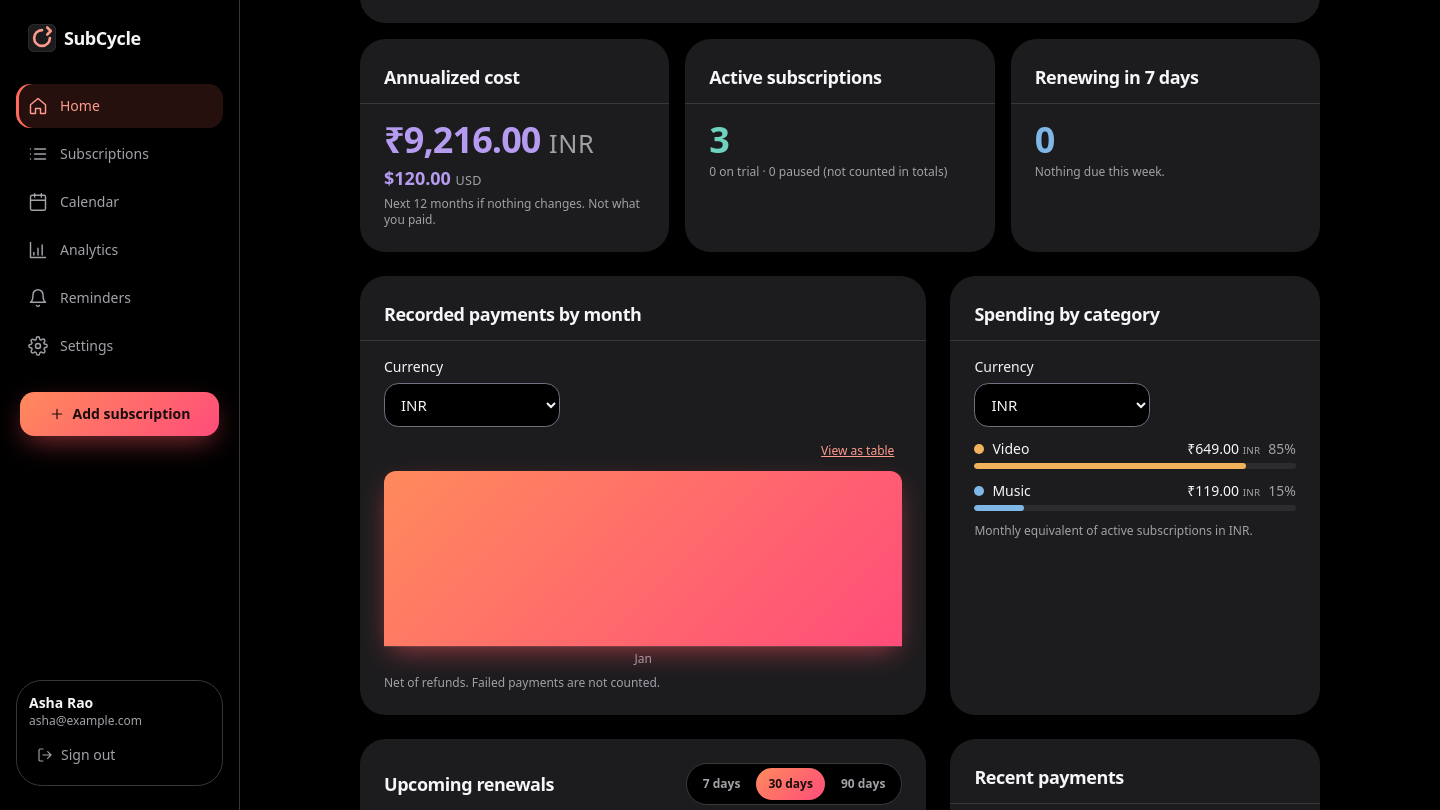
Test: multiple currencies are never combined › category and recorded charts offer a currency switch instead of mixing
The image size is (1440, 810).
(page scrolled)
expect the picture named "649.00" is shown: met, box [384,471,902,667]
Select "USD" in the dropdown labelled "Currency" below "Recorded payments by month": {"x": 472, "y": 405} [384,383,560,427]
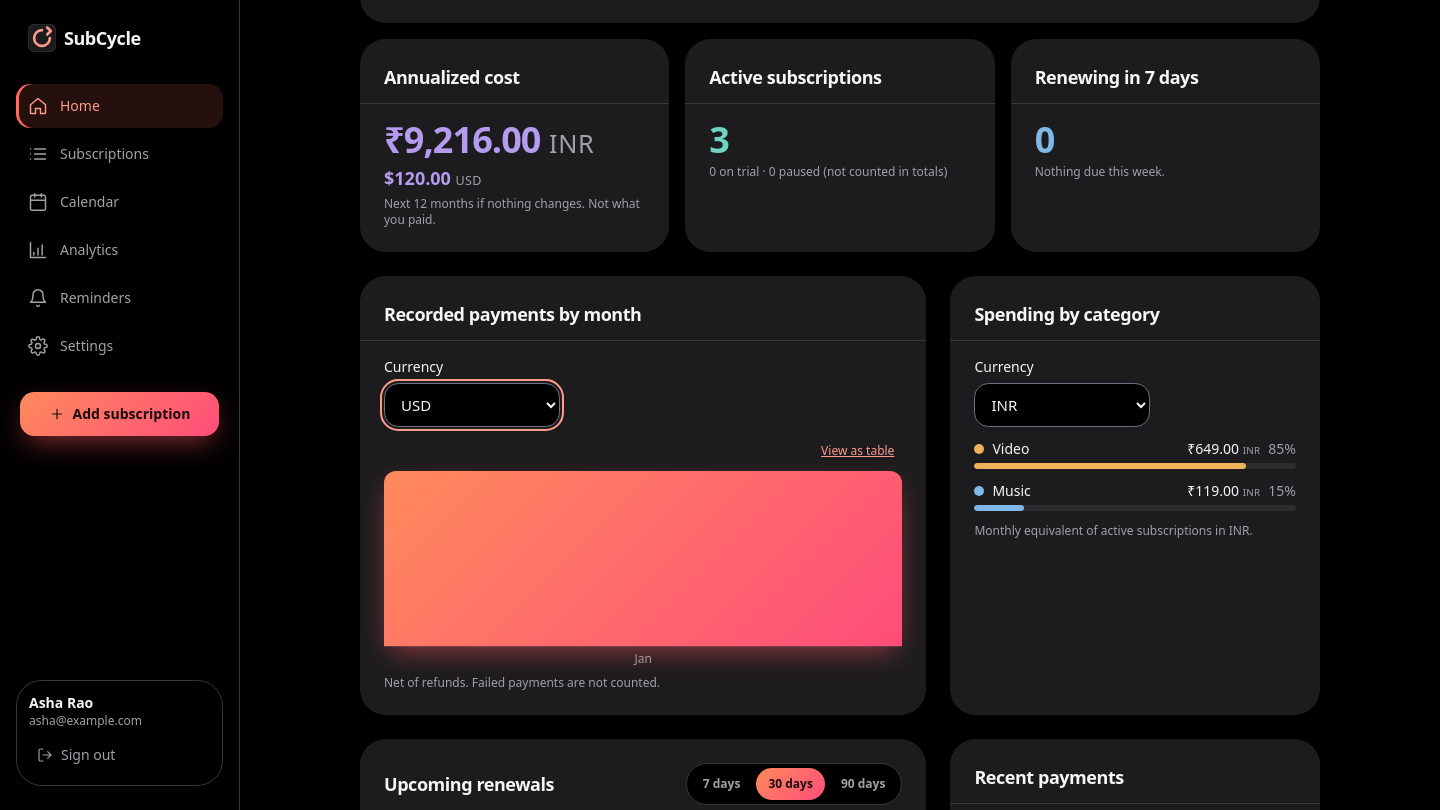
expect the picture "Jan" is shown: met, box [384,471,902,667]
expect the text "Video" is shown: met, box [974,439,1029,459]
Select "USD" in the dropdown labelled "Currency" below "Spending by category": {"x": 1062, "y": 405} [974,383,1150,427]
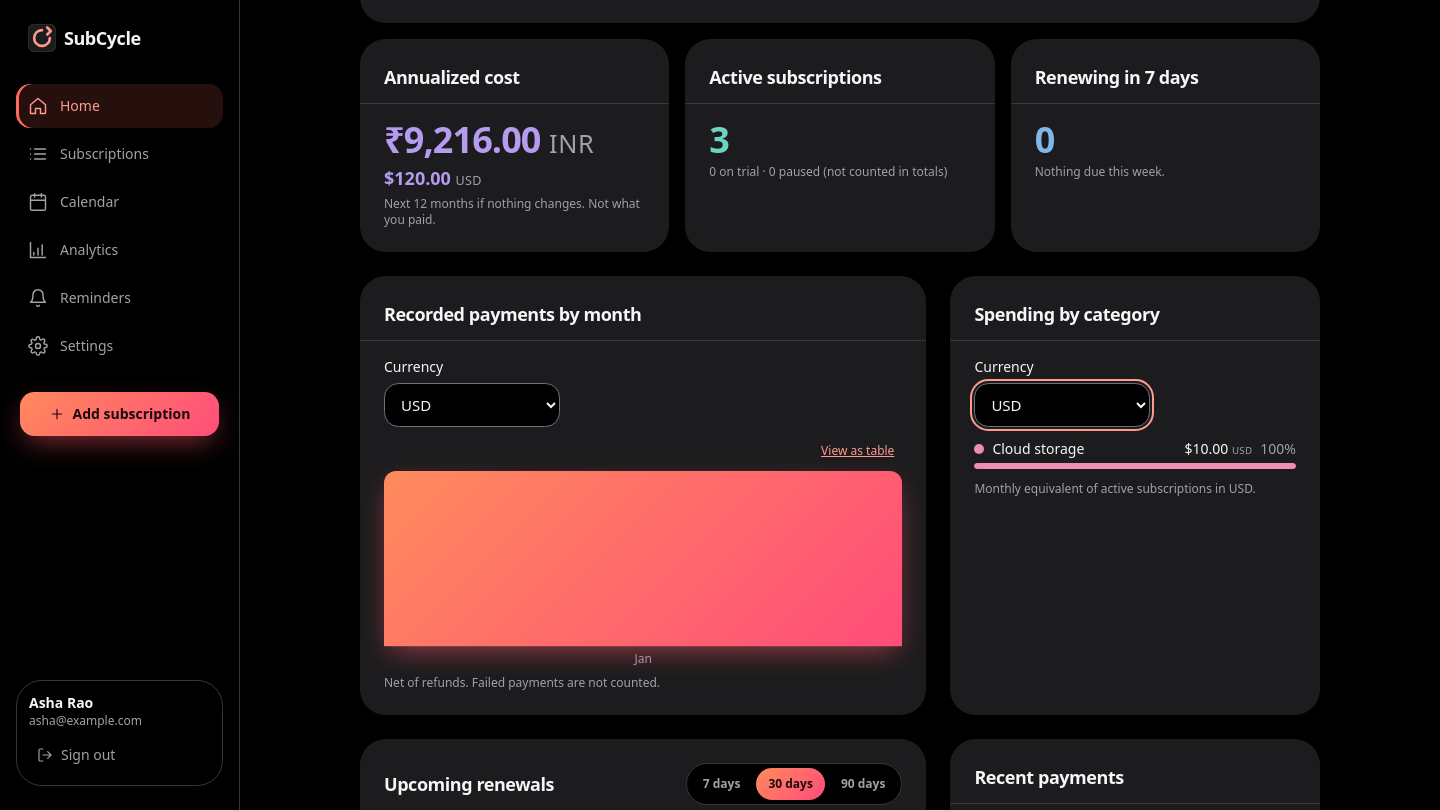
expect the text "Cloud storage" is shown: met, box [974,439,1084,459]
expect the text "Video" is gone: met
